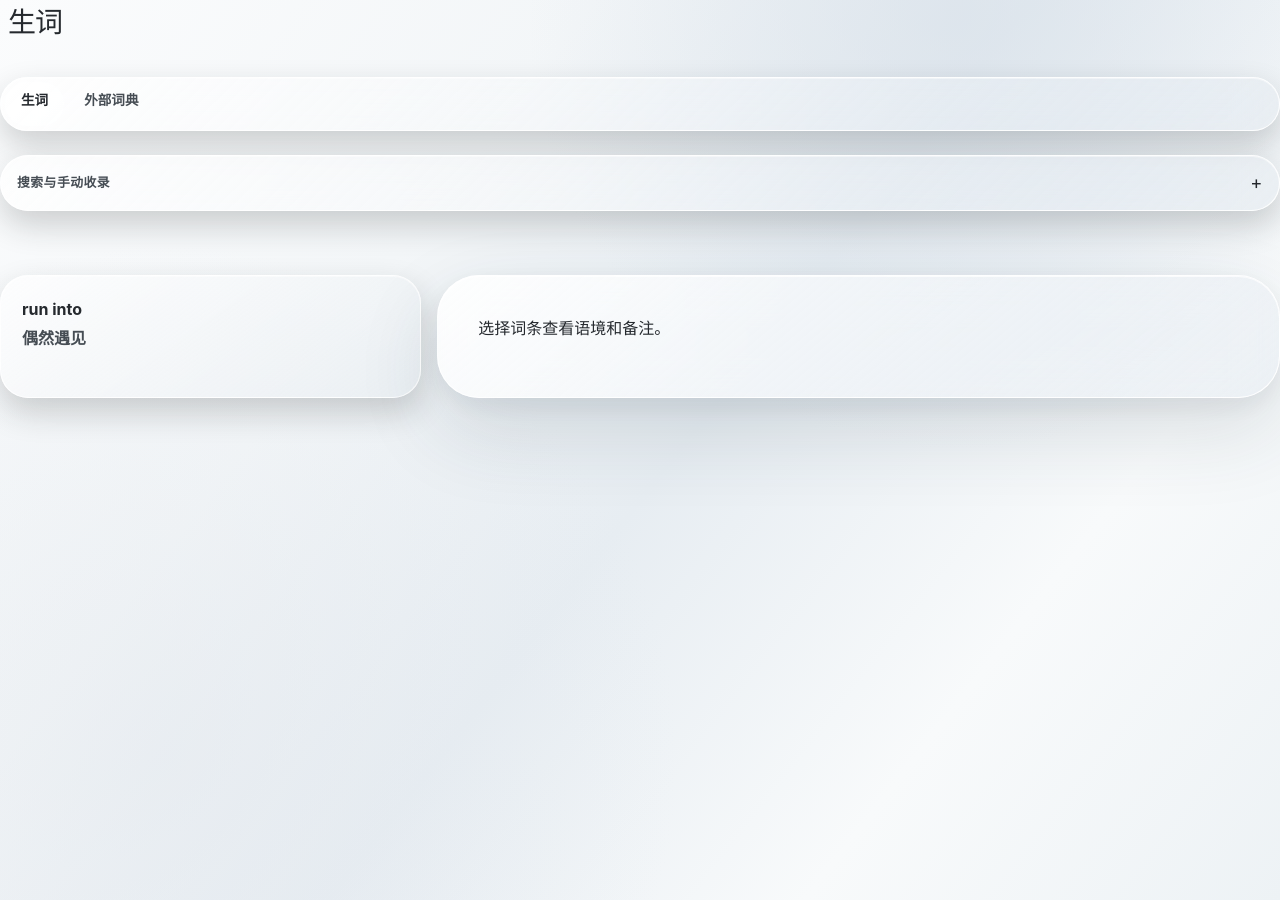
Test: Web word library › confirms a deleted word after the write response is lost
The width and height of the screenshot is (1280, 900).
What coordinates should you click on to do the following:
click the button "run into 偶然遇见"
I would click on:
 (52, 309)
Its box is [9,284,412,365].
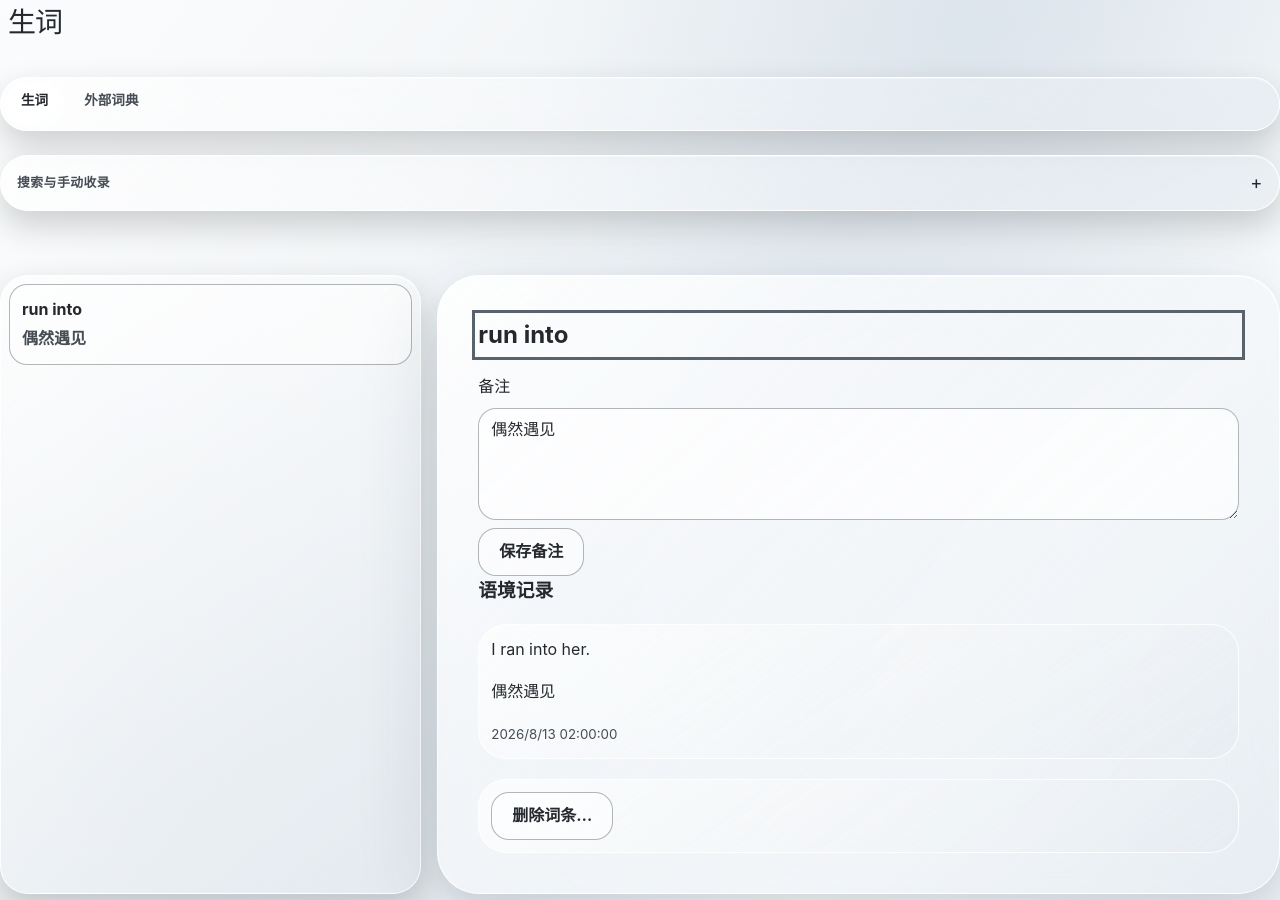
What coordinates should you click on to do the following:
click the button "删除词条…"
I would click on:
 (552, 816)
Its box is [491,792,613,840].
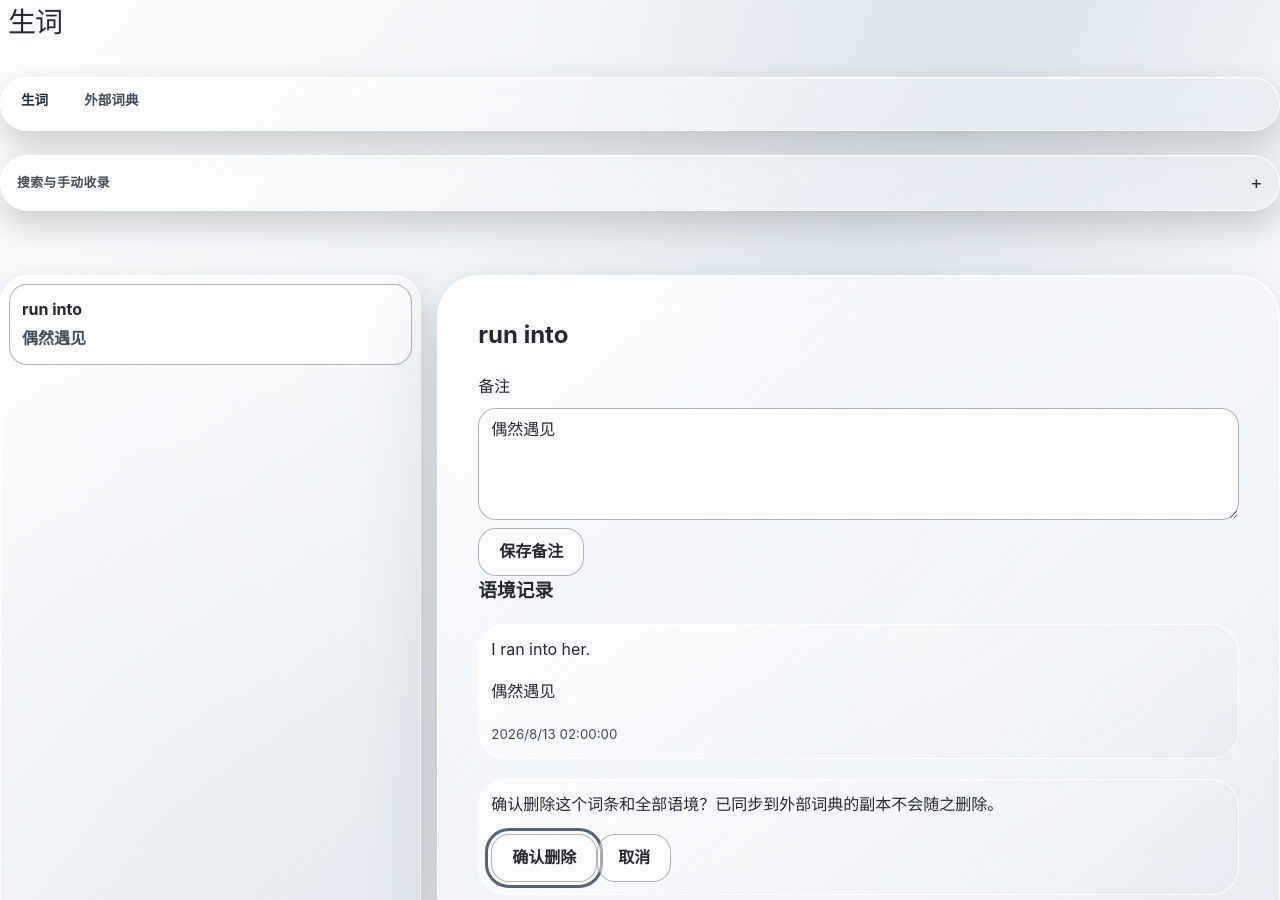
What coordinates should you click on to do the following:
click the button "确认删除"
I would click on:
 (544, 858)
Its box is [491,834,597,882].
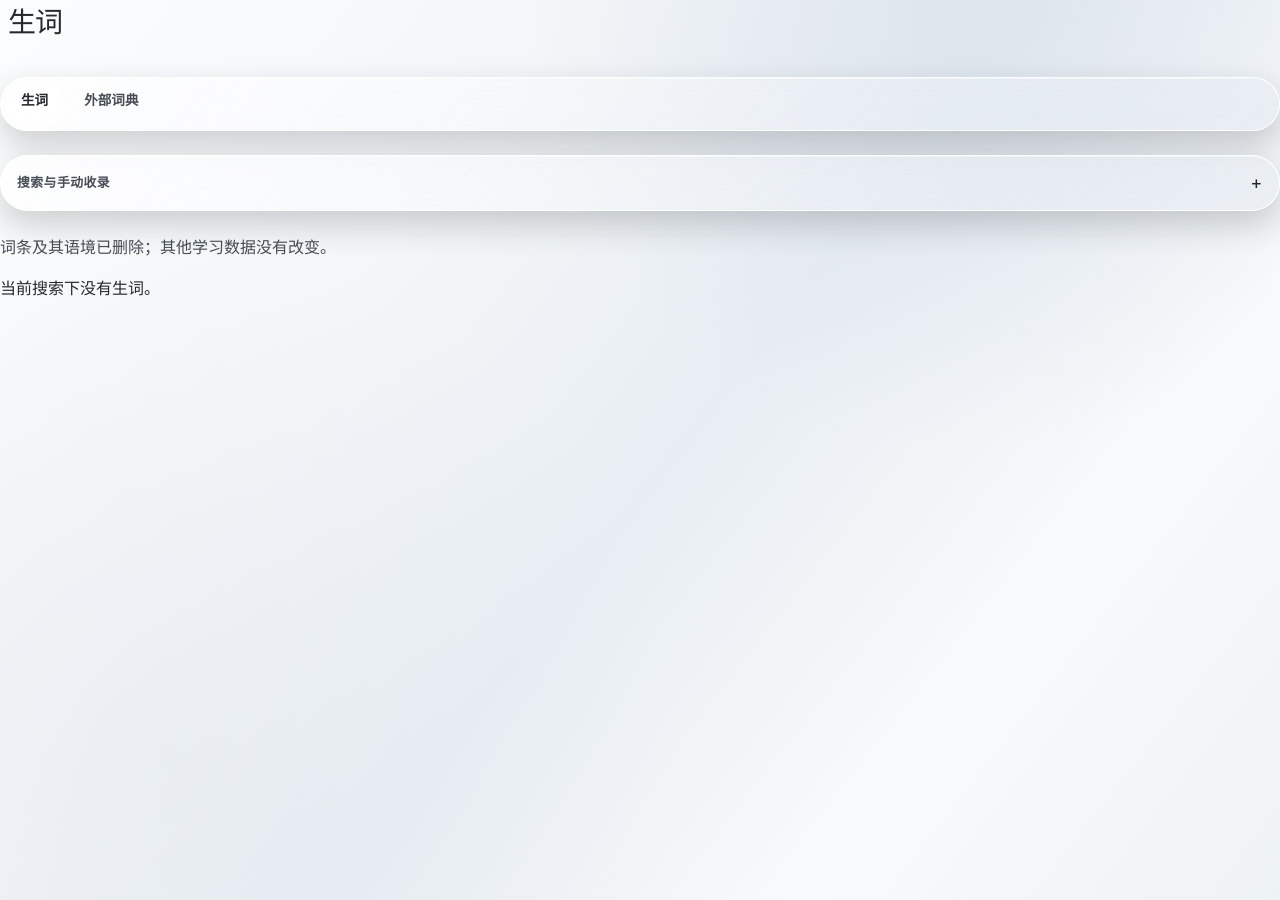
Expected: the text with class "word-status" shows "词条及其语境已删除", [0,237,336,257]
